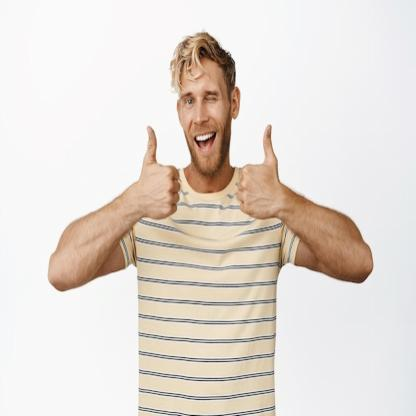thumb_up: (232, 121, 286, 221), (134, 122, 182, 224)
